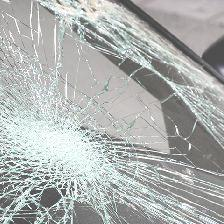glass_shatter: (1, 42, 160, 216)
